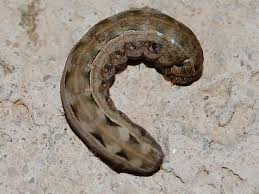Armyworm: (58, 5, 212, 186)
